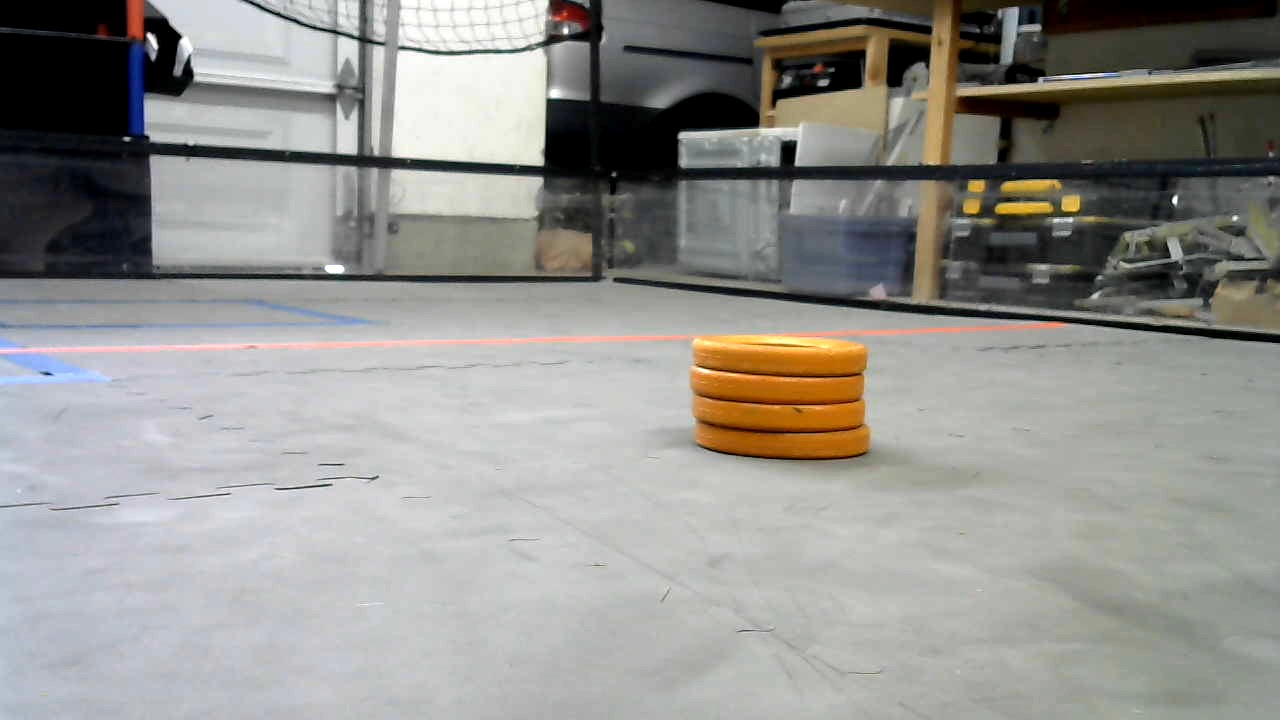FourStack: (685, 329, 874, 463)
